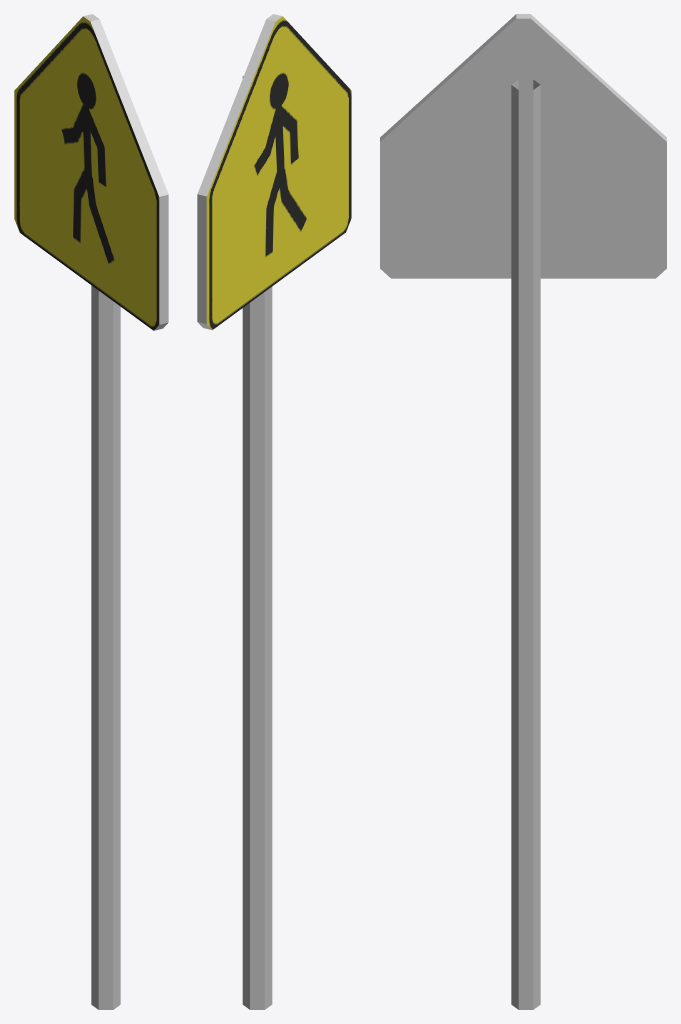
Rendered from Sing1.fbx.
3 views of the same model, side by side, from view 1: azimuth 30°, elevation 25°; view 2: azimuth 150°, elevation 25°; view 3: azimuth 270°, elevation 25° (orthographic).
Visible parts, largest first — view 1: Circle.031; view 2: Circle.031; view 3: Circle.031.
Part boxes in pixels (<box>): Circle.031: <box>14,14,168,1009</box>; Circle.031: <box>197,14,351,1009</box>; Circle.031: <box>380,14,666,1009</box>.
Bounding box in the file's own units: 12.35 × 370 × 98.17.
